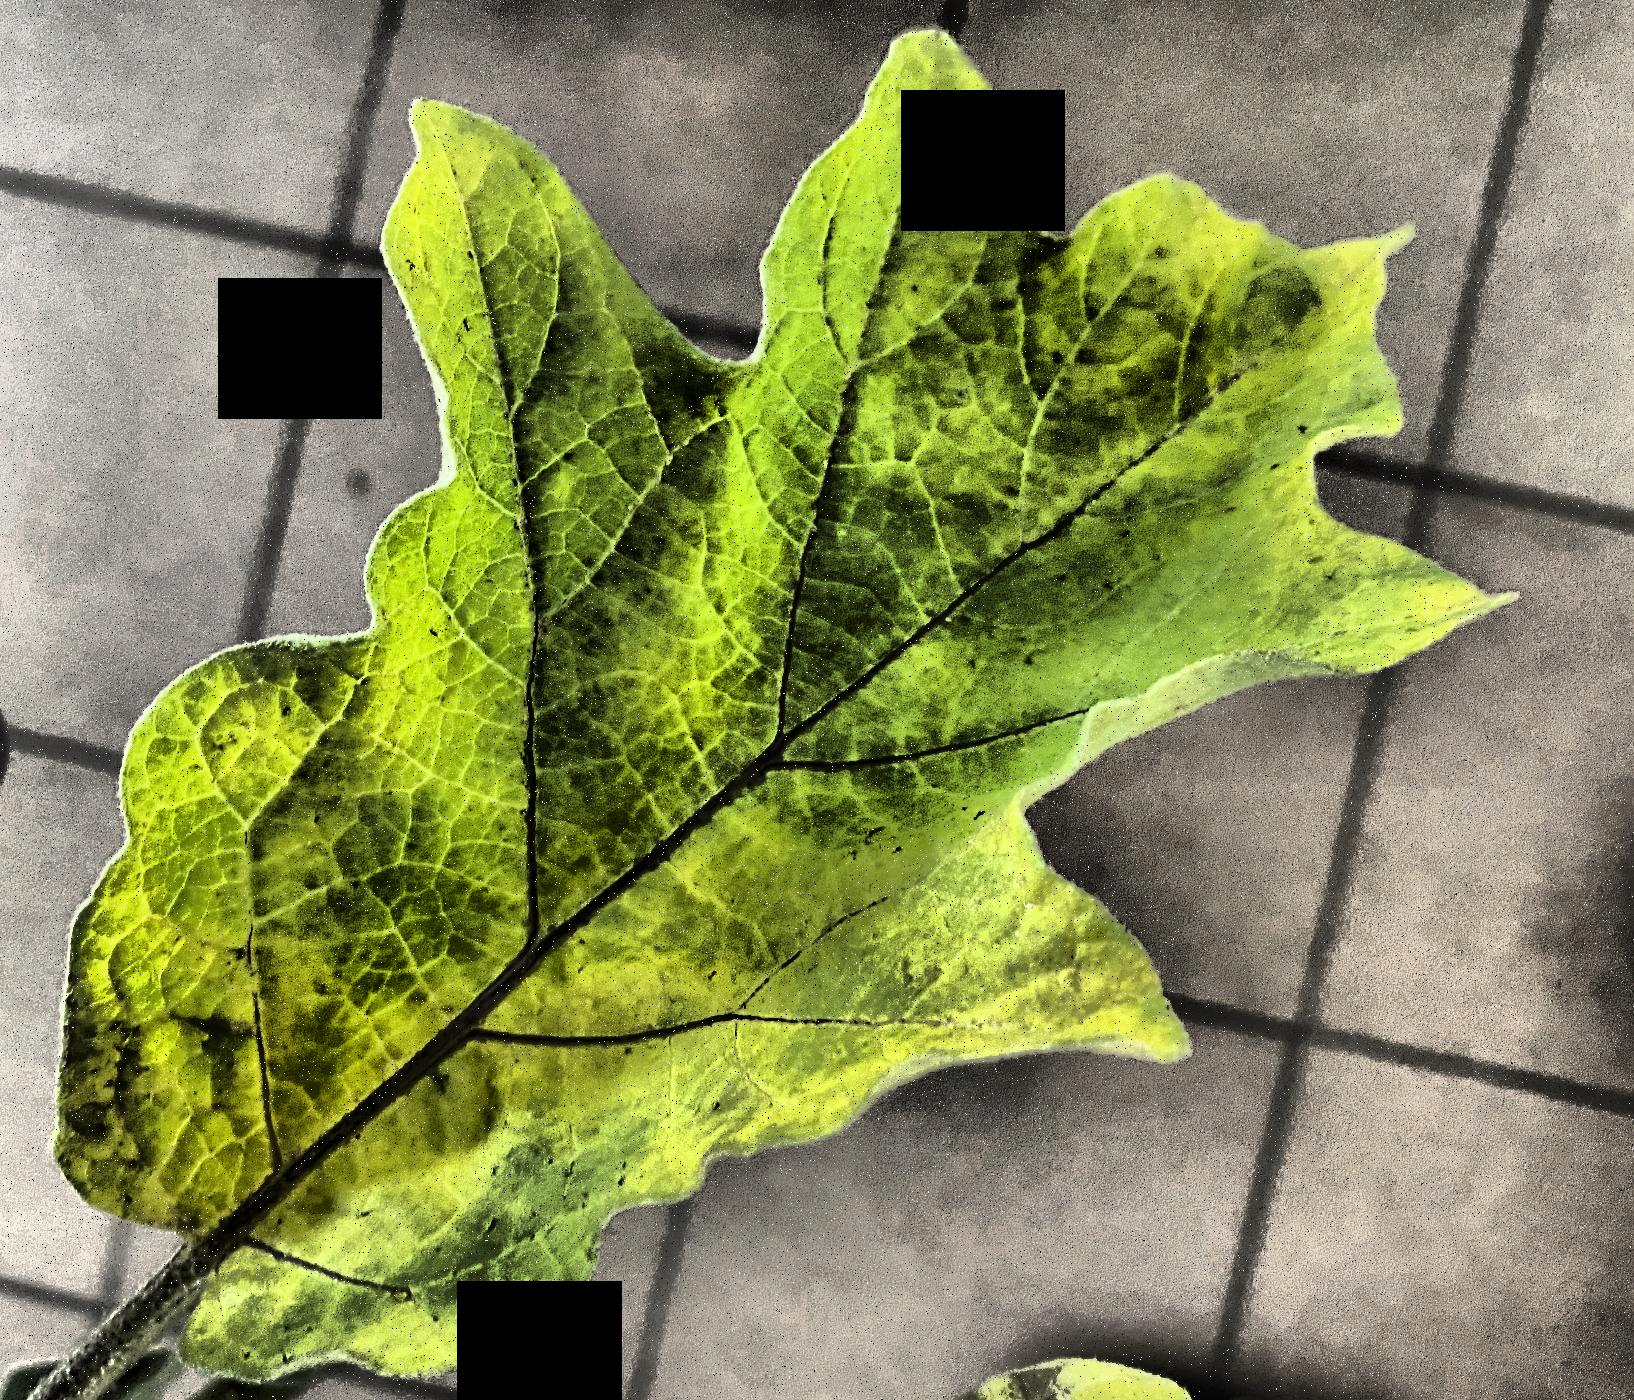Critical Stress: (0, 1, 1633, 1400)
